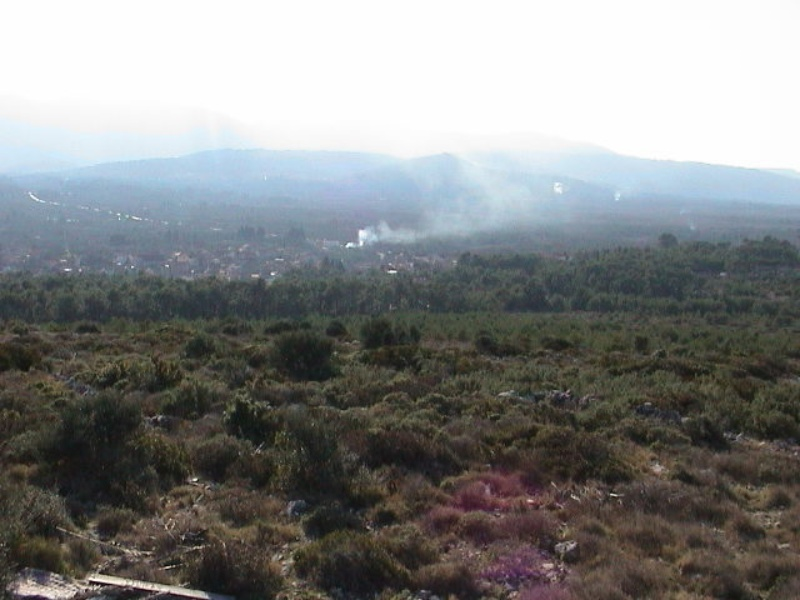smoke: (355, 224, 443, 240)
